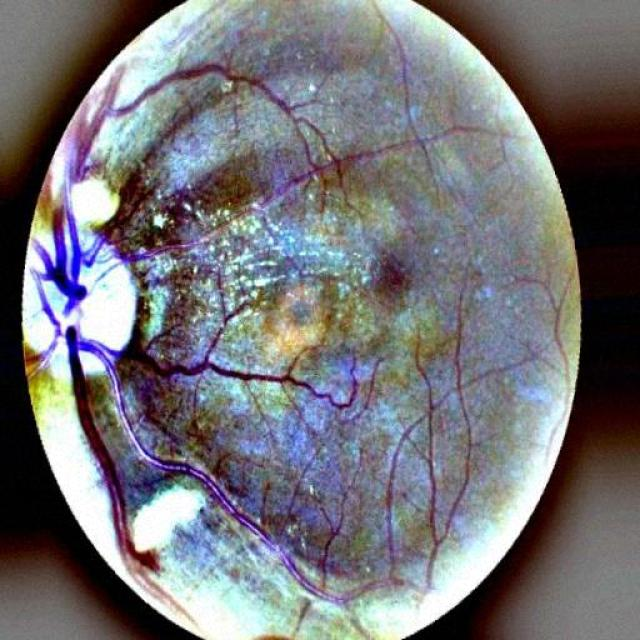Macula: (377, 253, 408, 302)
Nerves: (30, 62, 355, 602)
Optic Disk: (21, 232, 135, 373)
